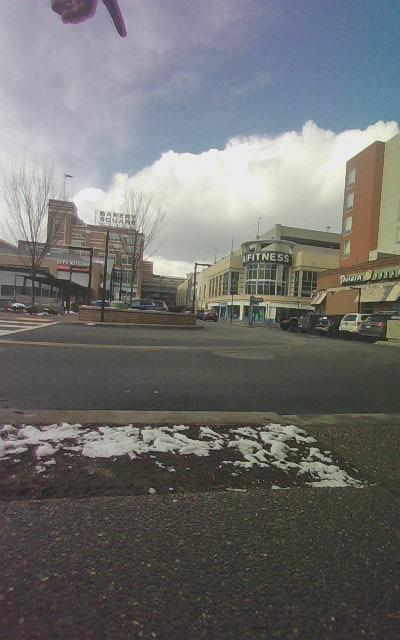curb: (0, 409, 399, 639)
road: (0, 317, 399, 414)
